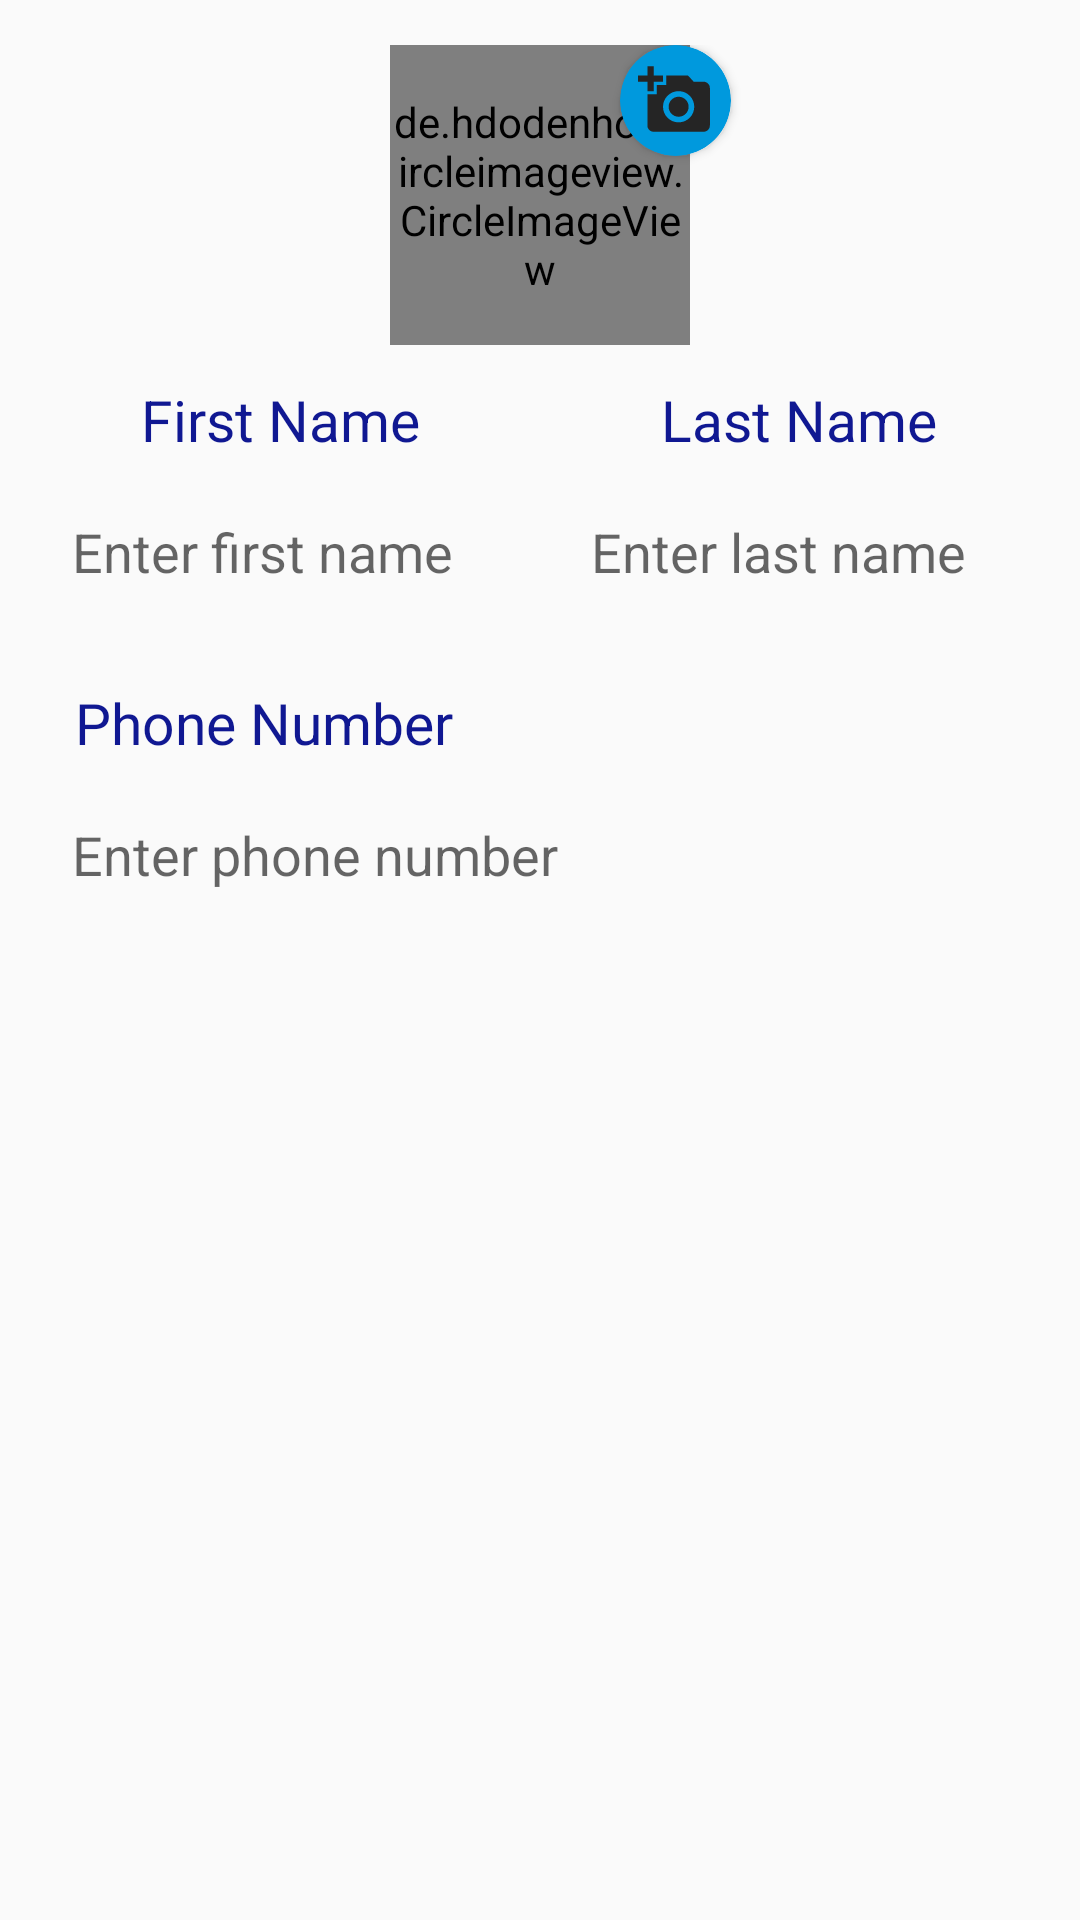

Named icons in this screenshot (1080 × 1920) and their centers, (x=x, y=y):
add photo: (x=674, y=99)
